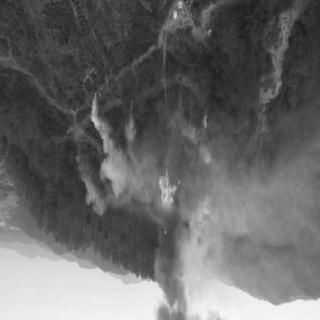Smoke: (76, 86, 136, 203)
